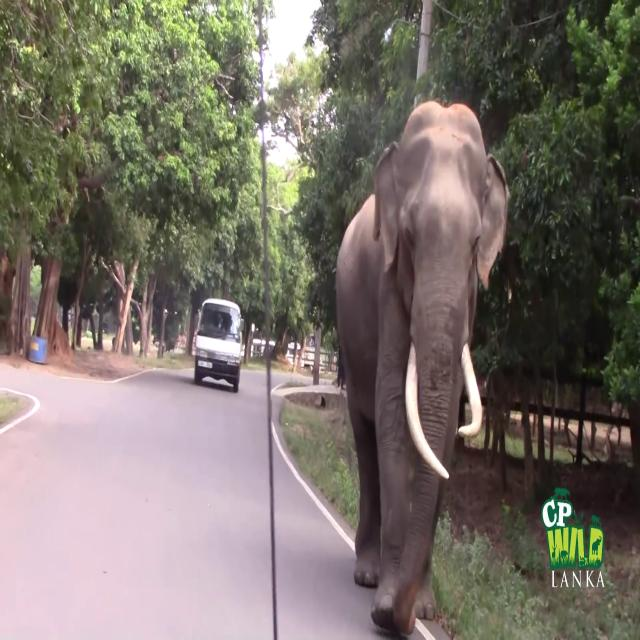Elephant: (334, 98, 510, 636)
